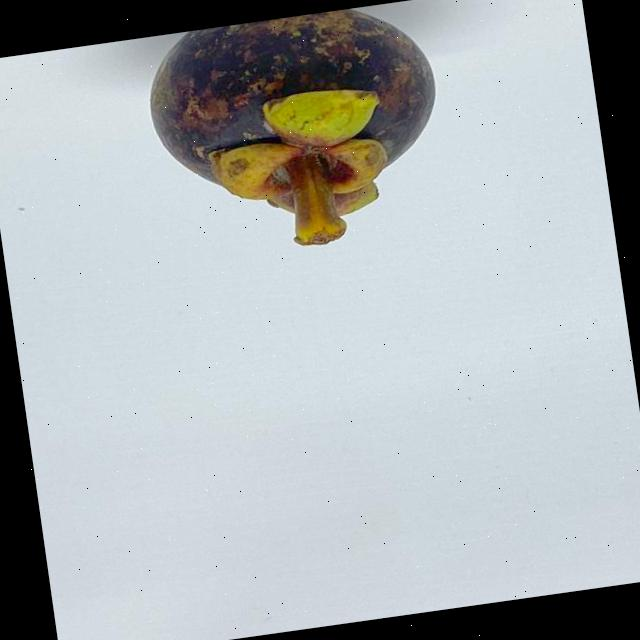mangosteen: (83, 0, 502, 292)
